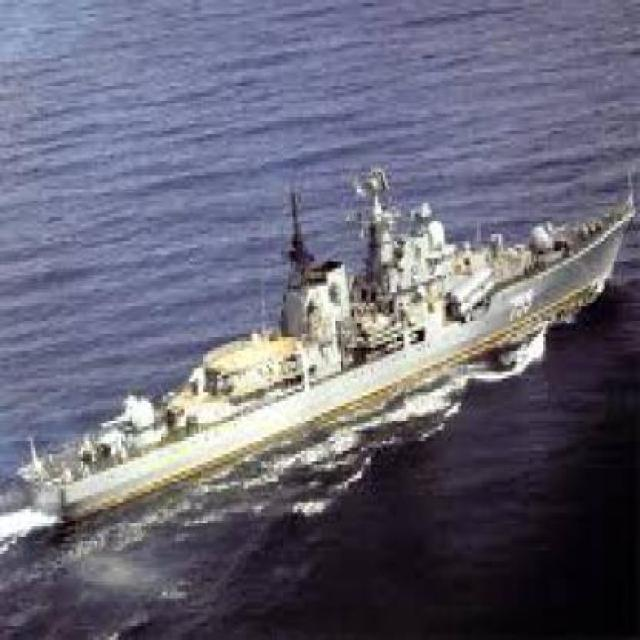warship2: (38, 80, 633, 542)
